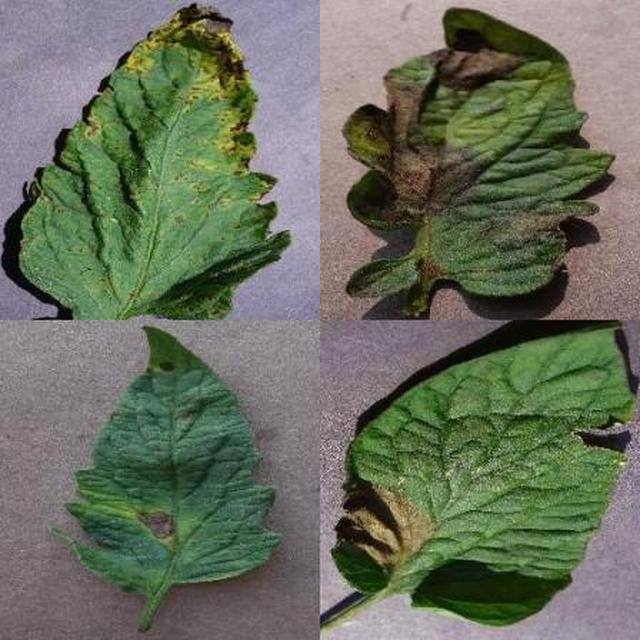Septoria Leaf: (219, 219, 640, 640)
